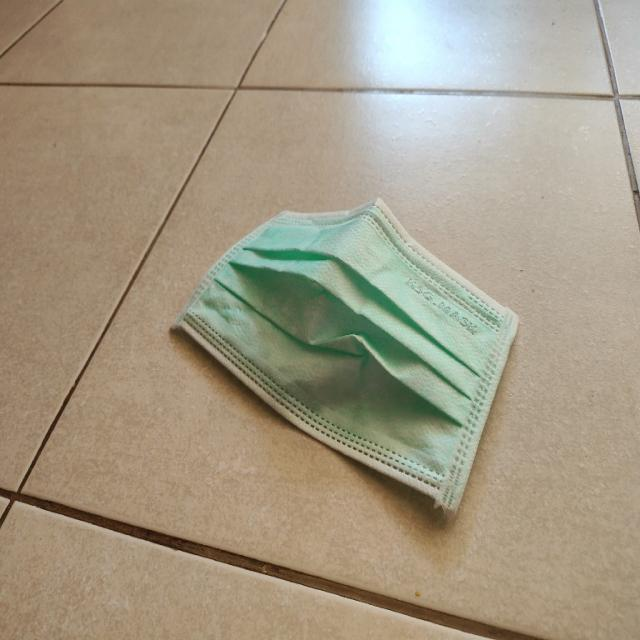face mask: (173, 200, 519, 515)
